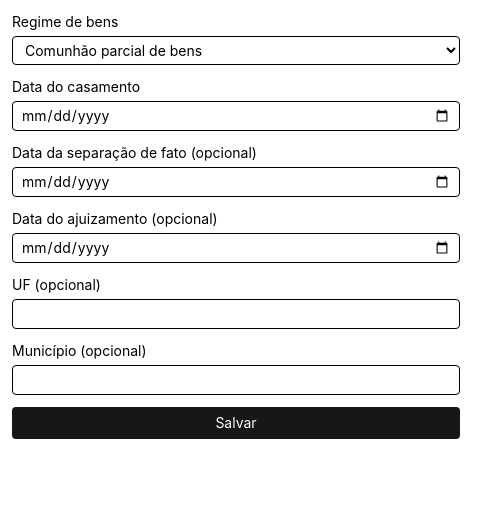
Test: AbaRegimeMarcos › mostra o seletor de efeito da separação de fato só quando a data é preenchida
This screenshot has width=477, height=521.
Expected: the field labelled "efeito da separação de fato" is not shown
In the date field labelled "Data da separação de fato (opcional)": (236, 182) [12,167,460,197], type "2022-06-01"
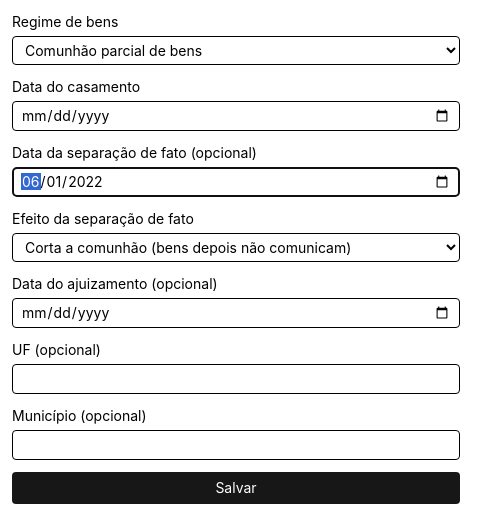
Expected: the dropdown labelled "Efeito da separação de fato" is shown, [12,233,460,262]
